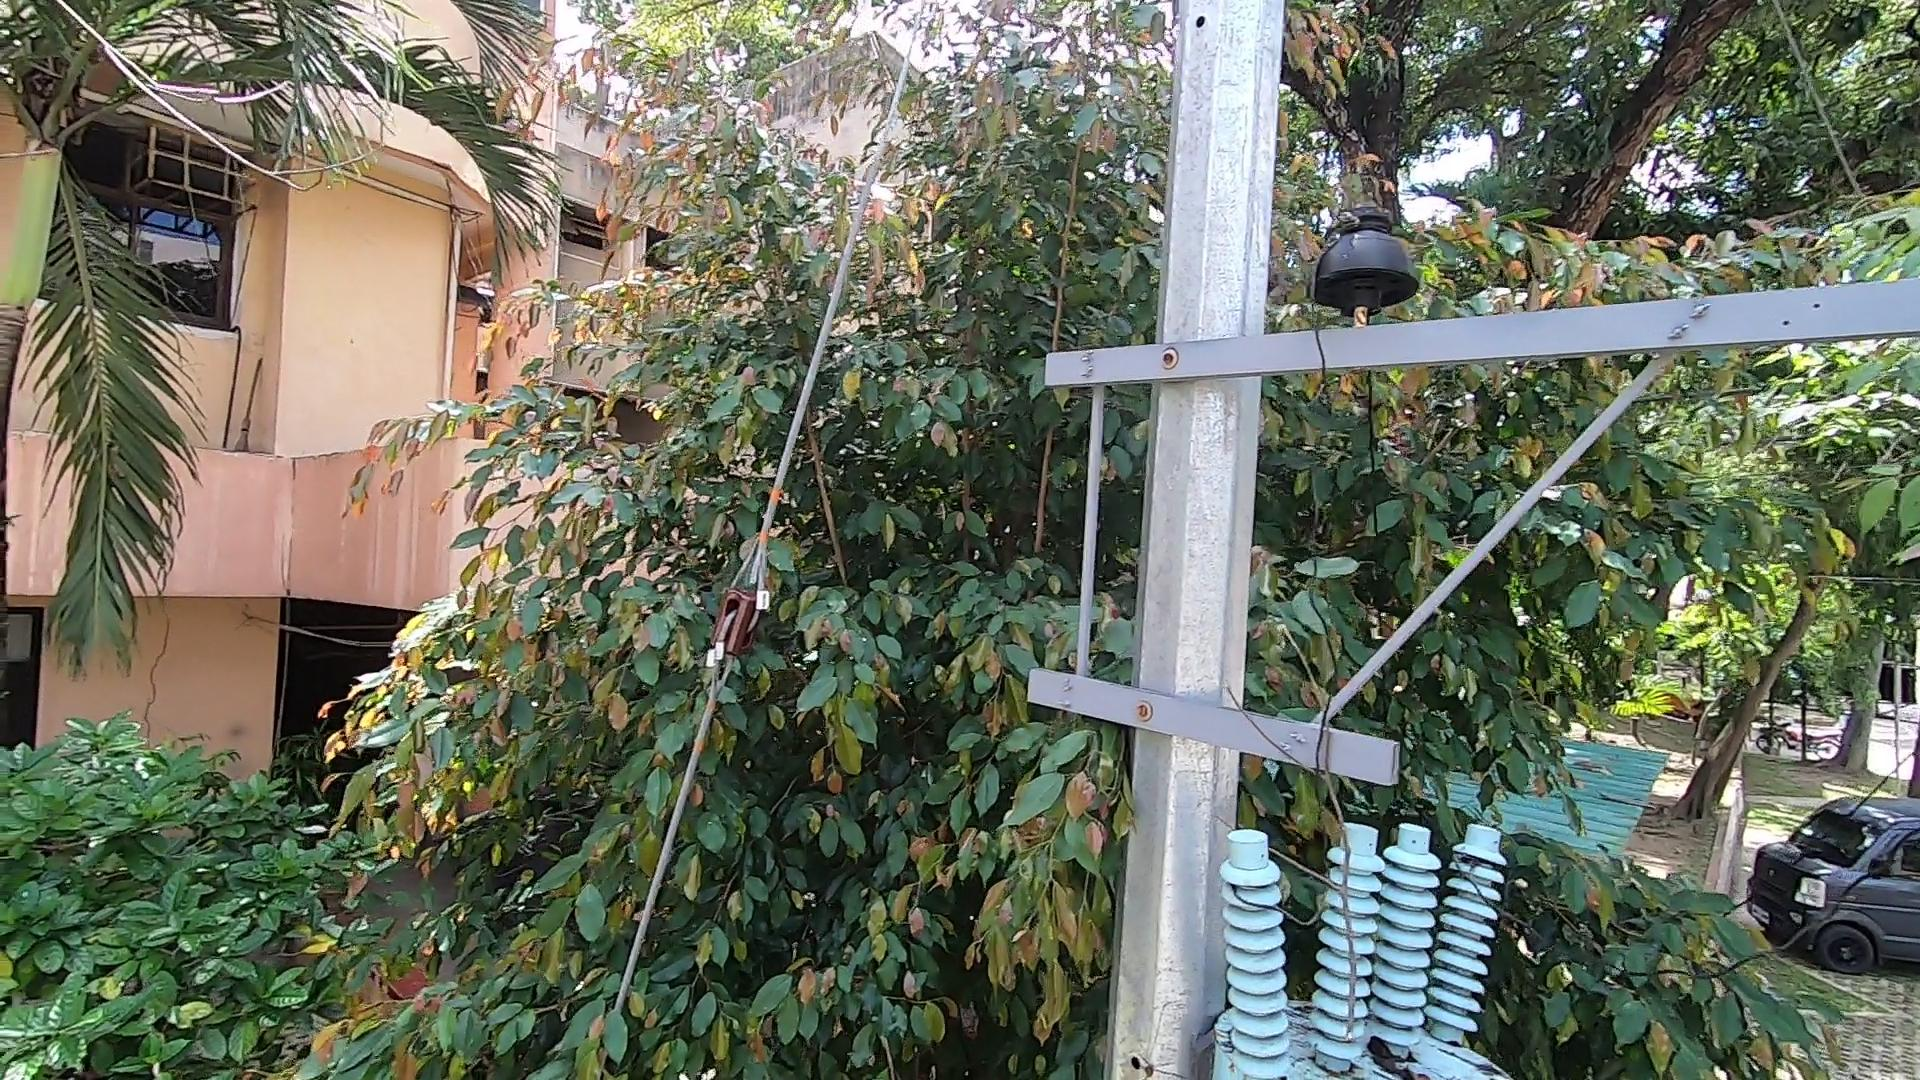leaf: (1358, 1030, 1418, 1080)
tree branch: (1215, 549, 1390, 1048)
